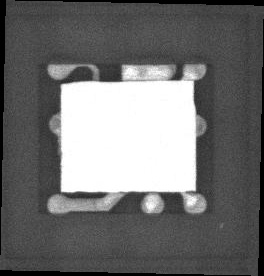DIE_BROKEN: (60, 78, 73, 84)
